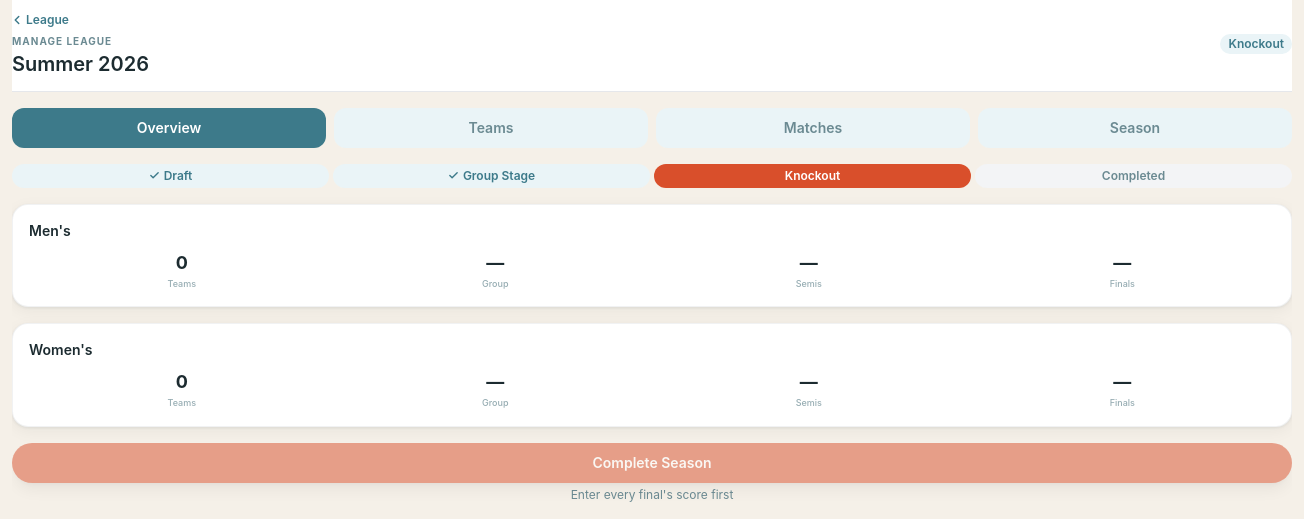
it: LeagueManagePage › switches sections in the URL and shows division pills outside the overview
The width and height of the screenshot is (1304, 519).
Click the button "Matches".
click(813, 128)  # box [656,108,970,148]
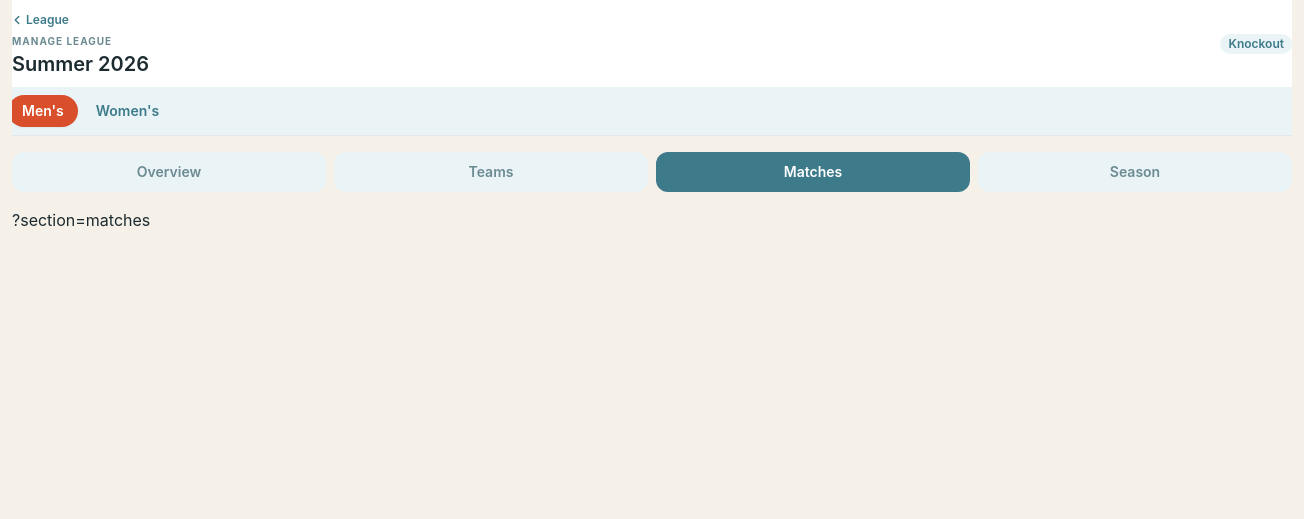
Expected: the button "Women's" is shown, [82,94,173,126]
Now the text with test id "search" reads "?section=matches", box [12,210,150,230]
